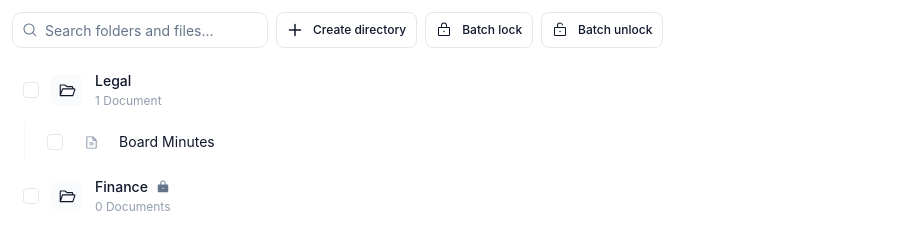
DealRoomFolderTree toolbar › renders search and filters, and switches to bulk actions on select
Expected: the field labelled "Search folders and files…" is shown, [12,12,268,48]
Expected: the element showing "Create directory Batch lock Batch unlock" is shown, [12,12,664,48]
What coordinates should you click on to do the following:
click the checkbox named "Legal"
I would click on:
 (31, 90)
Its box is [23,82,39,98].
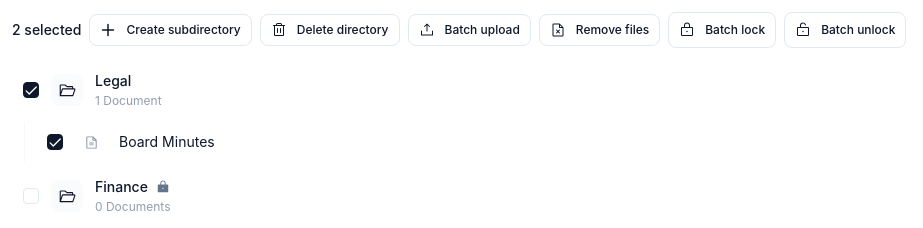
Expected: the text "2 selected" is shown, [12,20,82,40]
Expected: the element that starts with "2 selected" shows "Create subdirectory", [90,14,252,46]
Expected: the element that starts with "2 selected" shows "Delete directory", [260,14,400,46]
